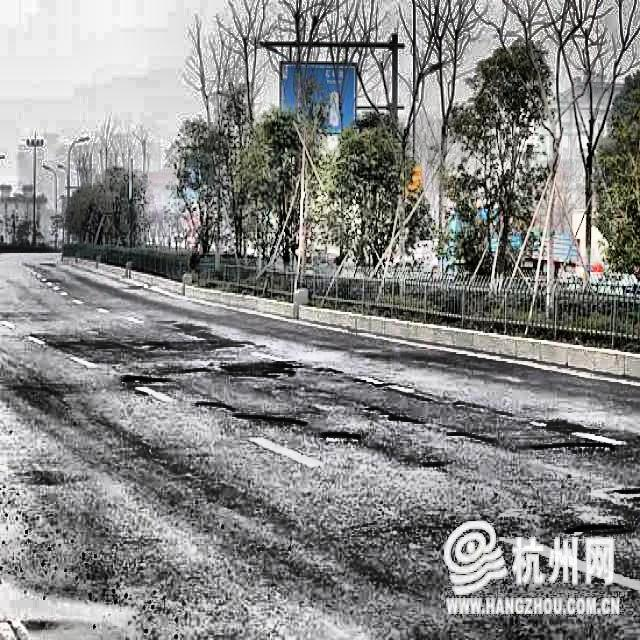buraco: (524, 436, 616, 462), (563, 520, 630, 538), (362, 404, 422, 424), (116, 366, 169, 386), (444, 428, 496, 447), (234, 414, 306, 426), (316, 432, 364, 444), (187, 398, 233, 410), (177, 361, 212, 375), (418, 457, 444, 469)
